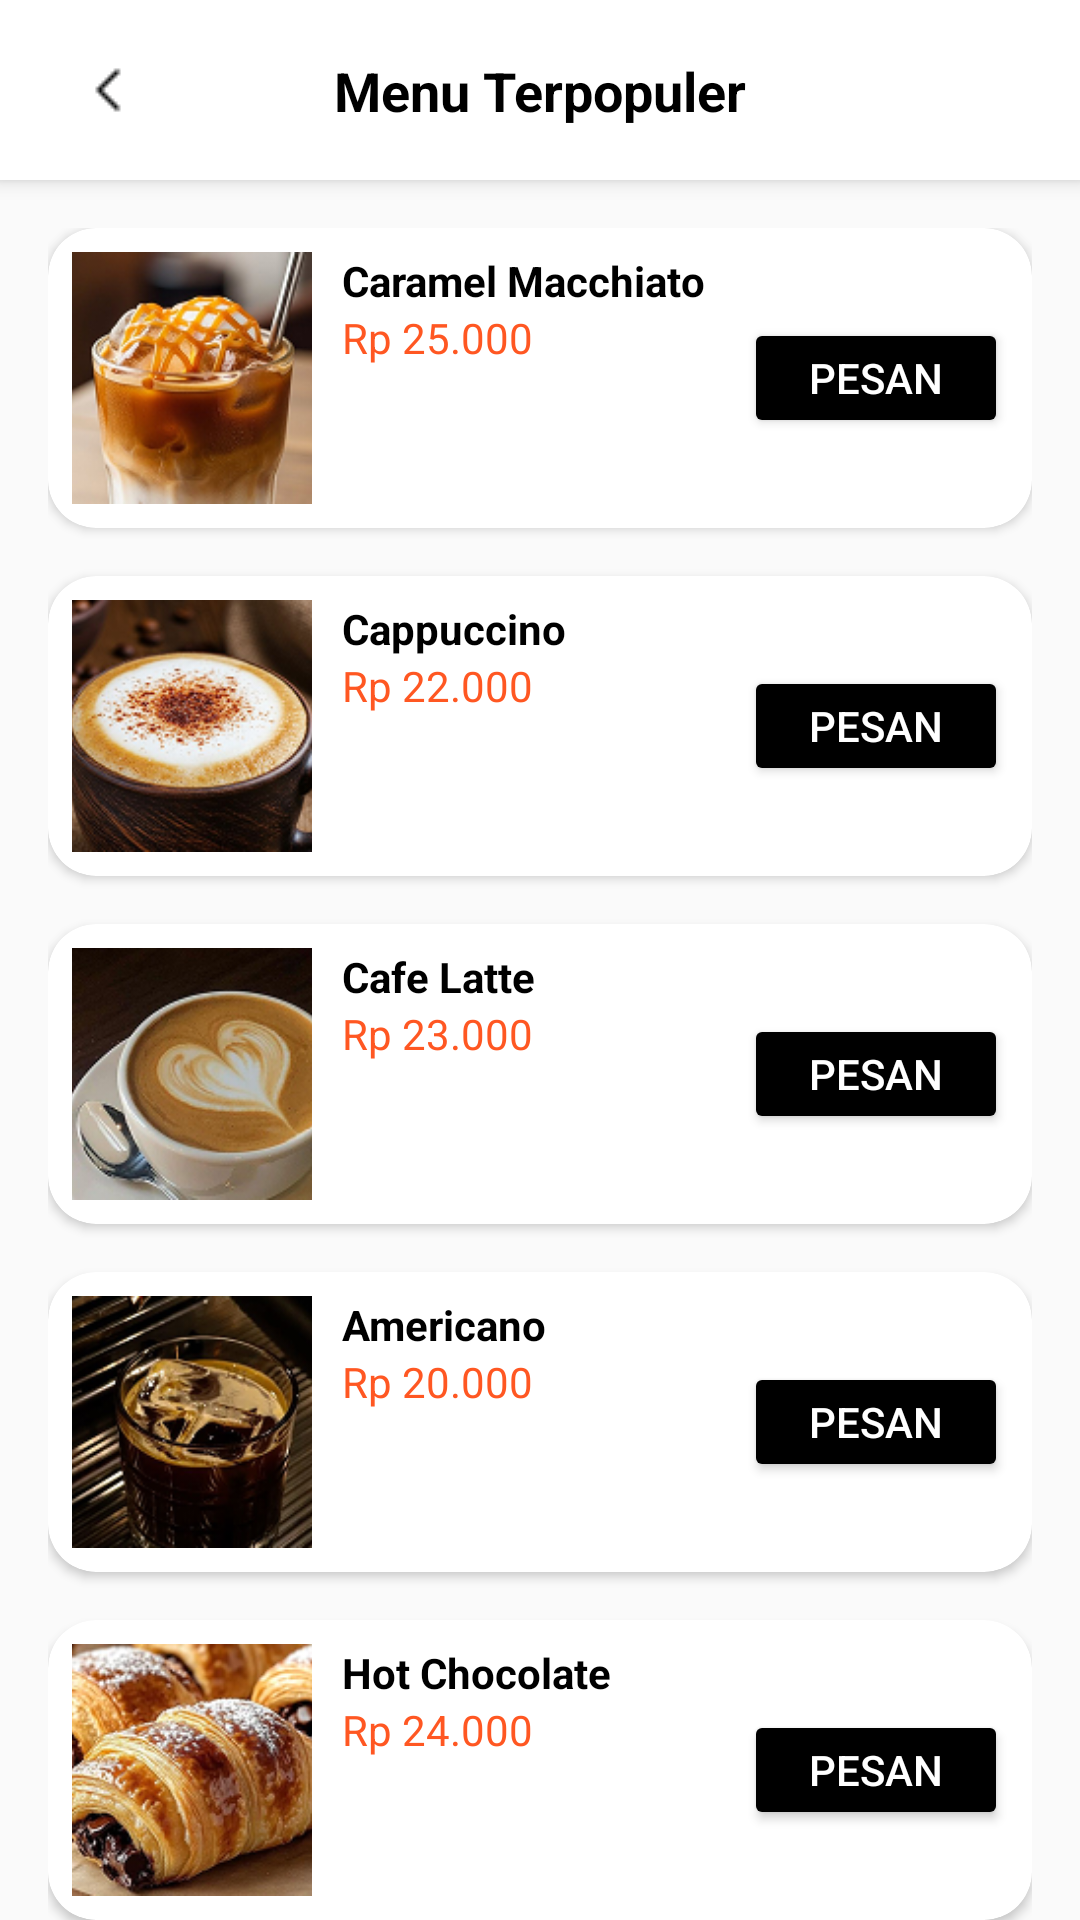

Locate icon controls on the screen. Image size 1080px x 1920px, boxes as (x1, y1, x2, y2).
back: (95, 68, 121, 112)
